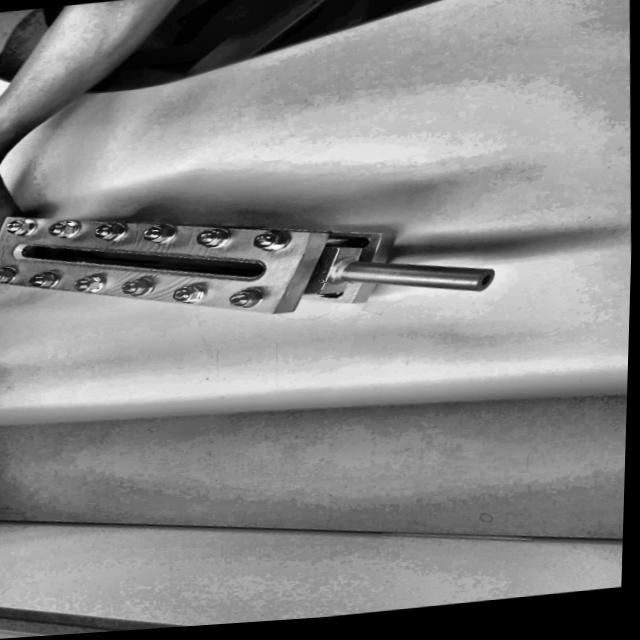ShuiWeiQi_12: (0, 144, 507, 357)
